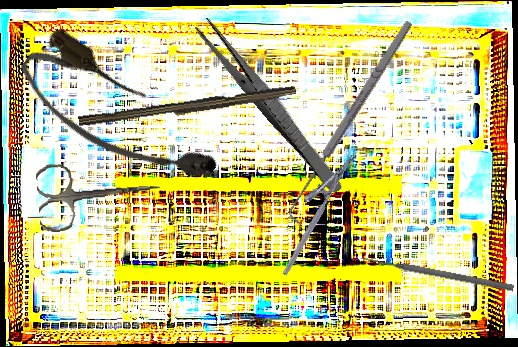Cannula: (8, 21, 228, 214)
Dressing Forceps: (192, 15, 349, 197)
Hook Surgical: (280, 16, 423, 227)
Iris Scissors: (35, 154, 163, 234)
Needle Holder: (265, 144, 357, 277)
Pusher: (360, 253, 515, 293)
Scalpel Handle: (78, 81, 297, 134)
